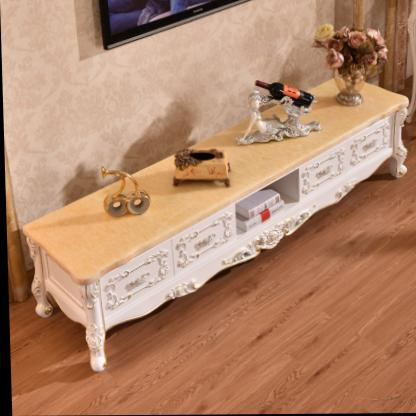TV stand: (14, 57, 409, 374)
Wooden floor: (39, 165, 416, 416)
